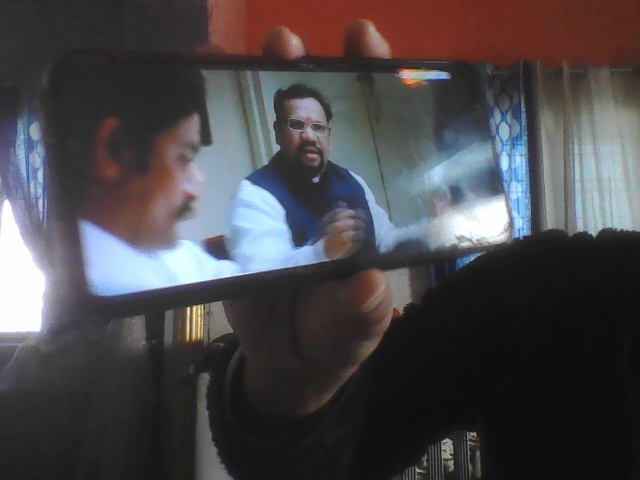fake: (76, 46, 230, 265)
